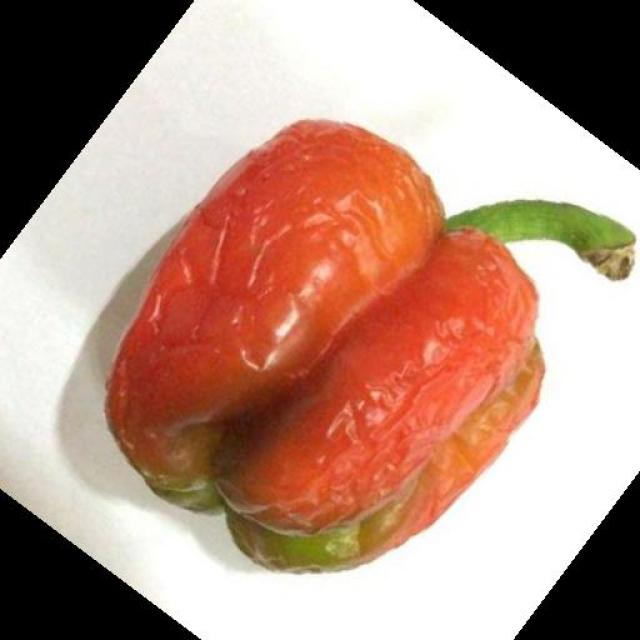Stale_Capsicum: (114, 92, 526, 563)
